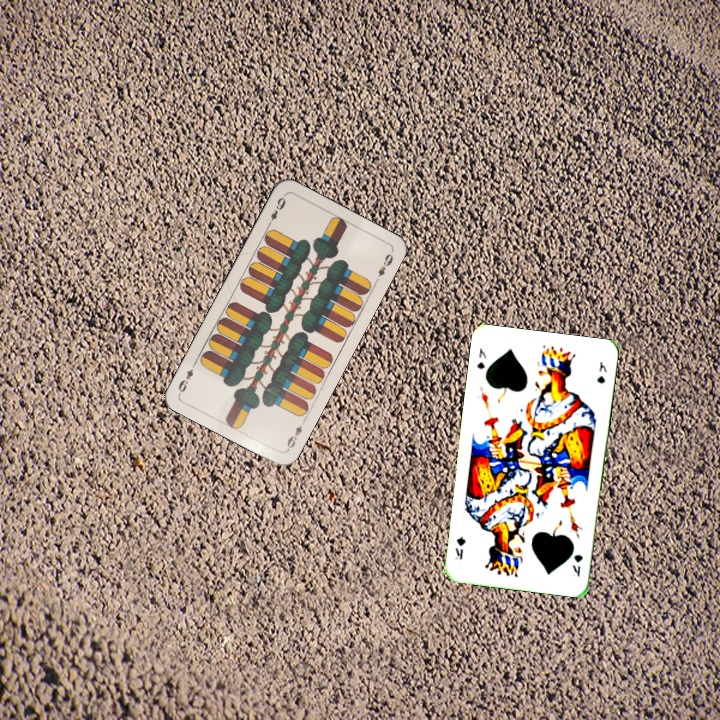E9: (283, 416, 308, 453), (263, 193, 288, 229)
GK: (569, 550, 585, 579), (473, 344, 489, 372)
